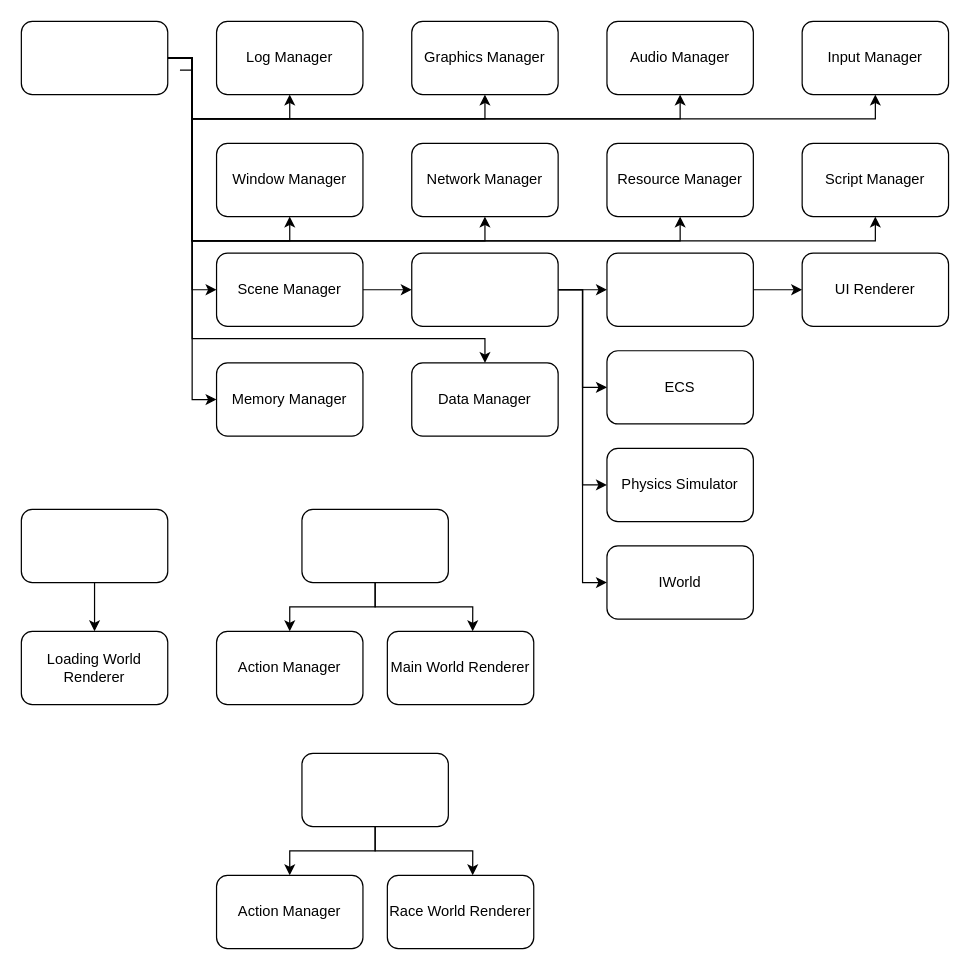
The diagram is 970 pixels wide and 970 high, and some of its shapes have lost their labels. The shapes that lost their labels are listed below. From the top down, each one's box as (x1, y1, x2, y2) in pixels, then its label:
(20, 20, 168, 95): Game Manager
(411, 252, 558, 326): Scene
(606, 252, 753, 326): UI Manager
(20, 508, 168, 583): Loading World : IWorld
(301, 508, 448, 583): Main World : IWorld
(301, 752, 448, 827): Race World : IWorld
